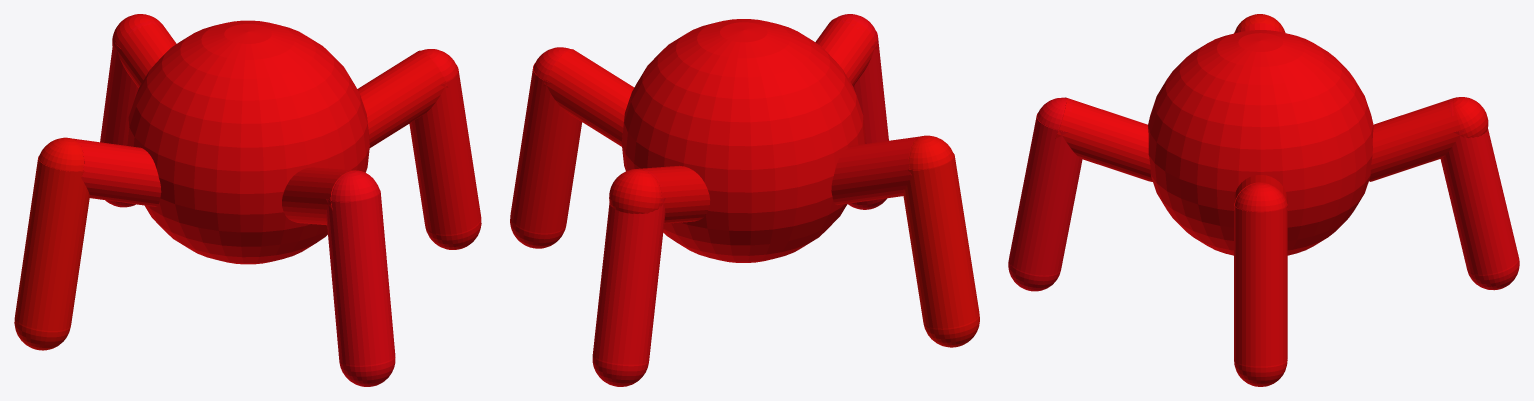
Rendered from ant.fbx.
The picture shows the model from 3 angles, left to right: view 1: azimuth 30°, elevation 25°; view 2: azimuth 150°, elevation 25°; view 3: azimuth 270°, elevation 25°; orthographic projection. The views are drawn at different scales.
Parts seen in each view (by area): view 1: Sphere, Sphere.001, Sphere.004, Sphere.002, Limb1.002, Limb1.003, Limb1, Limb1.001, Sphere.003; view 2: Sphere, Sphere.004, Sphere.003, Sphere.002, Limb1.002, Limb1, Limb1.003, Sphere.001, Limb1.001; view 3: Sphere, Sphere.002, Sphere.001, Sphere.003, Limb1, Limb1.001, Limb1.002, Sphere.004.
Part boxes in pixels (bbox=[...]): Sphere: bbox=[126, 20, 369, 264]; Sphere.001: bbox=[326, 170, 395, 386]; Sphere.004: bbox=[14, 137, 89, 350]; Sphere.002: bbox=[409, 49, 481, 249]; Limb1.002: bbox=[357, 50, 448, 147]; Limb1.003: bbox=[73, 138, 161, 206]; Limb1: bbox=[112, 14, 176, 87]; Limb1.001: bbox=[282, 167, 373, 225]; Sphere.003: bbox=[100, 21, 162, 207]; Sphere: bbox=[621, 19, 865, 262]; Sphere.004: bbox=[903, 135, 979, 347]; Sphere.003: bbox=[592, 168, 665, 386]; Sphere.002: bbox=[510, 47, 582, 248]; Limb1.002: bbox=[543, 49, 634, 146]; Limb1: bbox=[609, 165, 710, 223]; Limb1.003: bbox=[831, 136, 919, 205]; Sphere.001: bbox=[829, 14, 888, 209]; Limb1.001: bbox=[815, 17, 877, 86]; Sphere: bbox=[1148, 30, 1373, 255]; Sphere.002: bbox=[1234, 183, 1287, 386]; Sphere.001: bbox=[1008, 97, 1082, 291]; Sphere.003: bbox=[1440, 98, 1519, 290]; Limb1: bbox=[1369, 97, 1488, 181]; Limb1.001: bbox=[1055, 97, 1152, 181]; Limb1.002: bbox=[1234, 175, 1287, 209]; Sphere.004: bbox=[1234, 14, 1285, 33].
Size of the model in its own units: 12.25 by 6.6 by 11.98.
